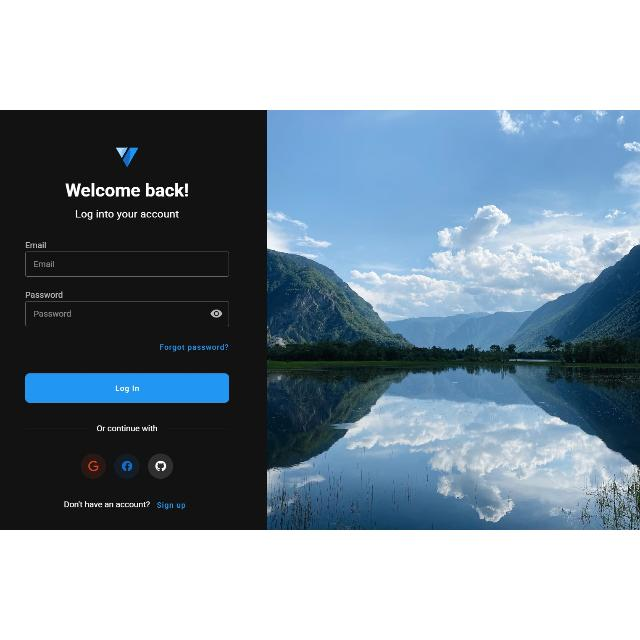QLabel: (65, 182, 188, 198), (73, 210, 181, 220), (64, 501, 150, 509), (158, 343, 230, 351), (95, 424, 159, 432), (25, 291, 63, 299), (156, 501, 187, 509), (114, 384, 140, 392), (24, 241, 46, 249)
VBtn: (24, 372, 230, 404)
VDivider: (26, 427, 88, 429), (168, 427, 228, 429)
VIcon: (114, 146, 140, 168)
VImg: (148, 452, 172, 480), (80, 454, 106, 478), (115, 454, 138, 478)
VTextField: (24, 301, 230, 327), (24, 252, 230, 278)
